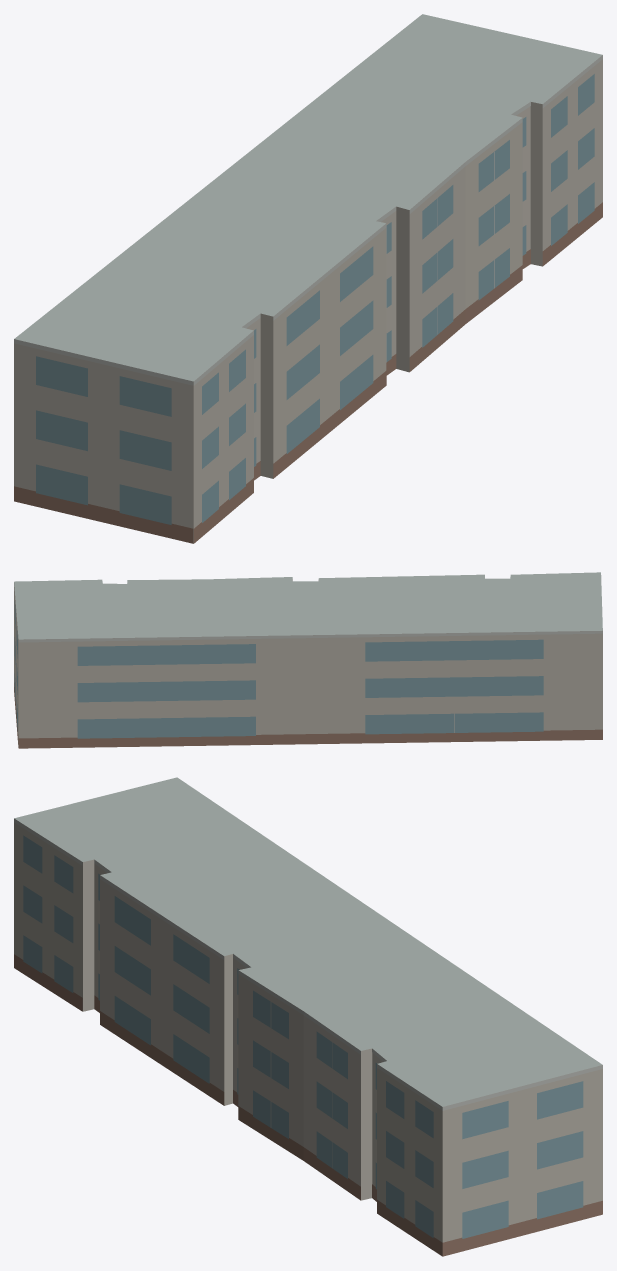
The model's file is survey-upis-32752025.glb.
The picture shows the model from 3 angles, top to bottom: view 1: azimuth 30°, elevation 25°; view 2: azimuth 150°, elevation 25°; view 3: azimuth 270°, elevation 25°; orthographic projection. The views are drawn at different scales.
Parts seen in each view (by area): view 1: survey-upis-32752025.tmp; view 2: survey-upis-32752025.tmp; view 3: survey-upis-32752025.tmp.
Boxes of the visible parts, <box> form: survey-upis-32752025.tmp: <box>14,14,602,543</box>; survey-upis-32752025.tmp: <box>14,572,602,748</box>; survey-upis-32752025.tmp: <box>14,777,602,1256</box>.
Size of the model in its own units: 43.23 by 9.15 by 32.63.
